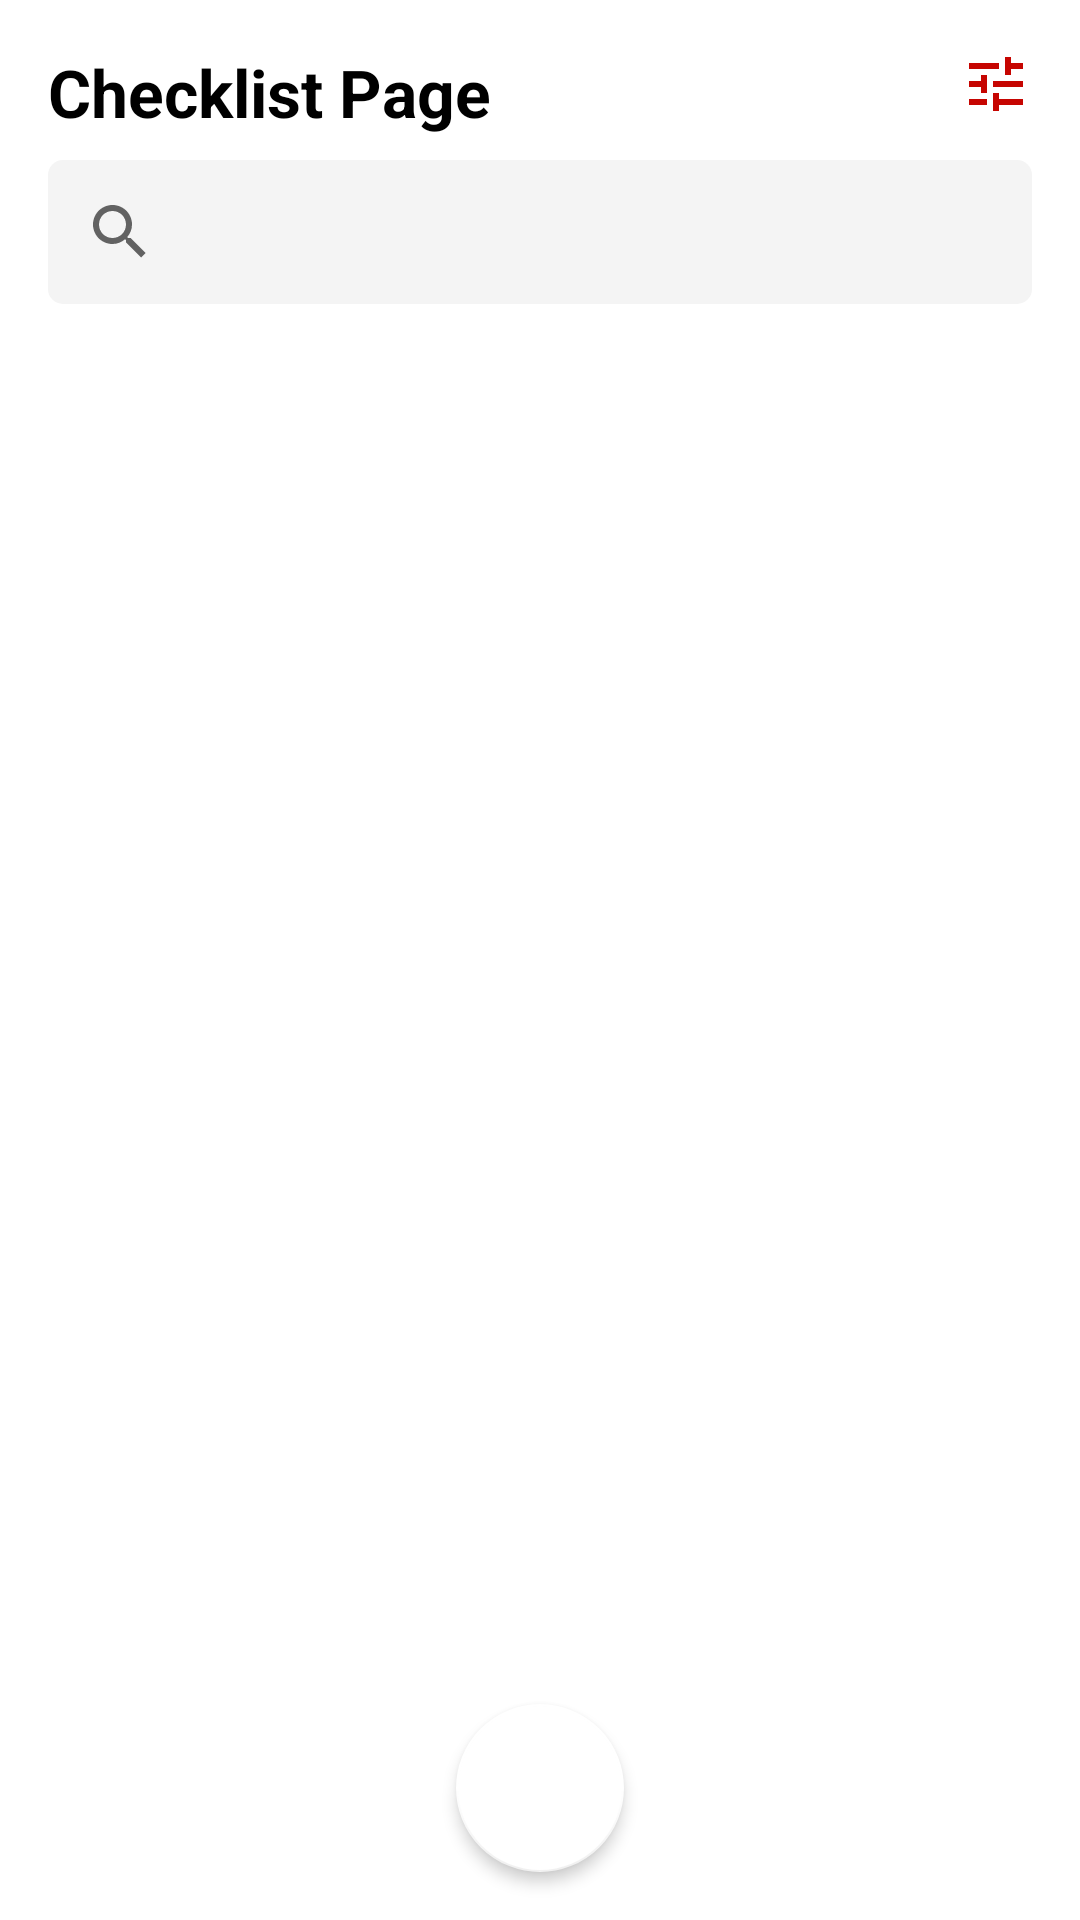

Icons on this 1080x1920 Android screen, each with its box as (x1, y1, x2, y2):
filter: (969, 57, 1023, 111)
